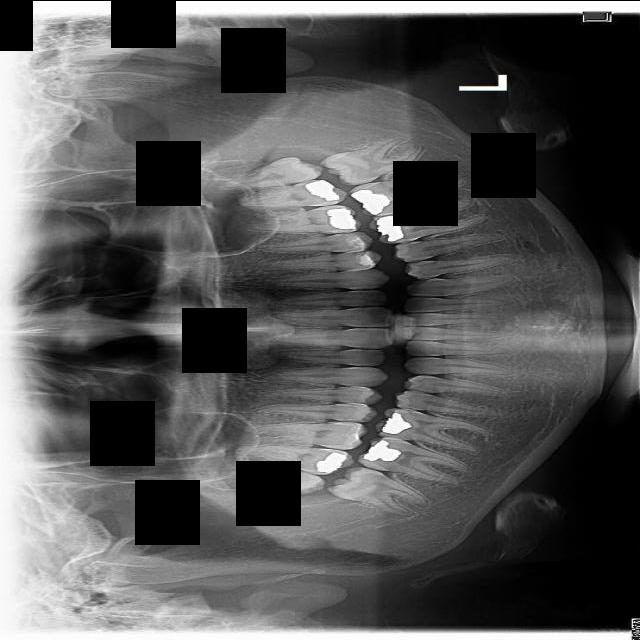NucleOSS Implant: (349, 177, 391, 218), (303, 171, 345, 206), (312, 448, 350, 478), (376, 408, 412, 438), (374, 212, 405, 243), (362, 438, 401, 461), (325, 206, 355, 231)
Sterngold Implant: (405, 408, 418, 414), (358, 348, 373, 352), (358, 302, 371, 305), (357, 363, 367, 365)
Straumann Implant: (347, 233, 371, 248), (356, 250, 379, 265)
